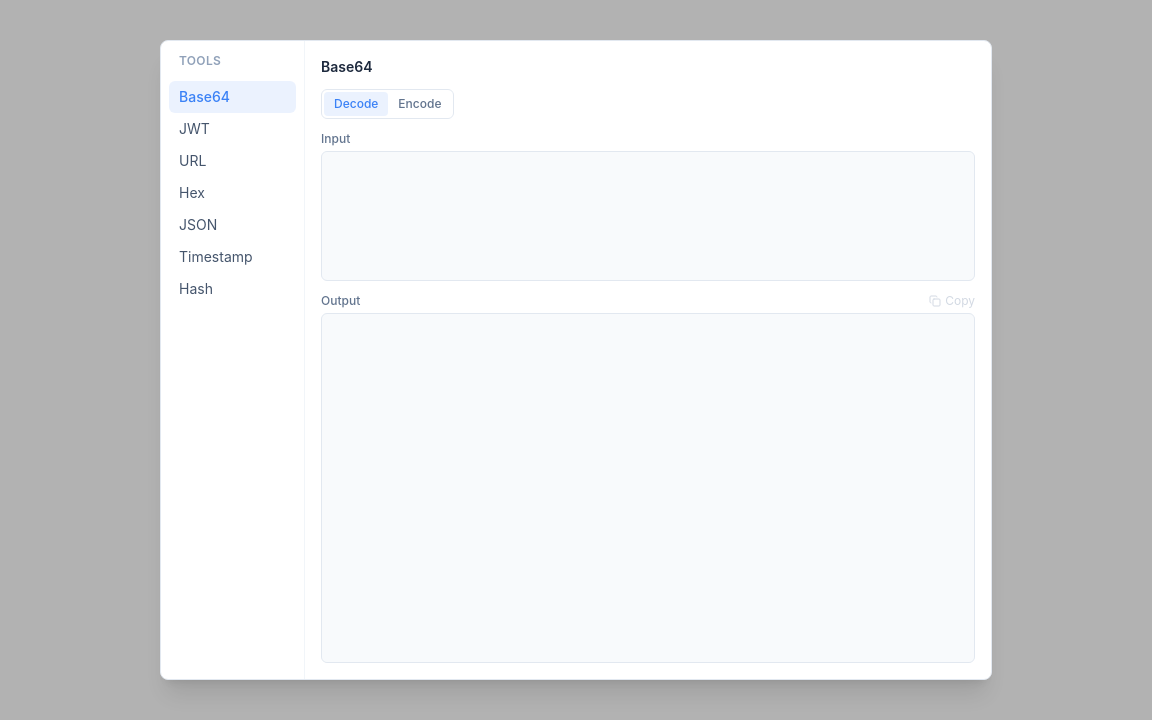
Test: ToolsDialog › decodes base64 input
The image size is (1152, 720).
Type "aGVsbG8=" into the text box labelled "Input" at (648, 216), box [321,151,975,281]
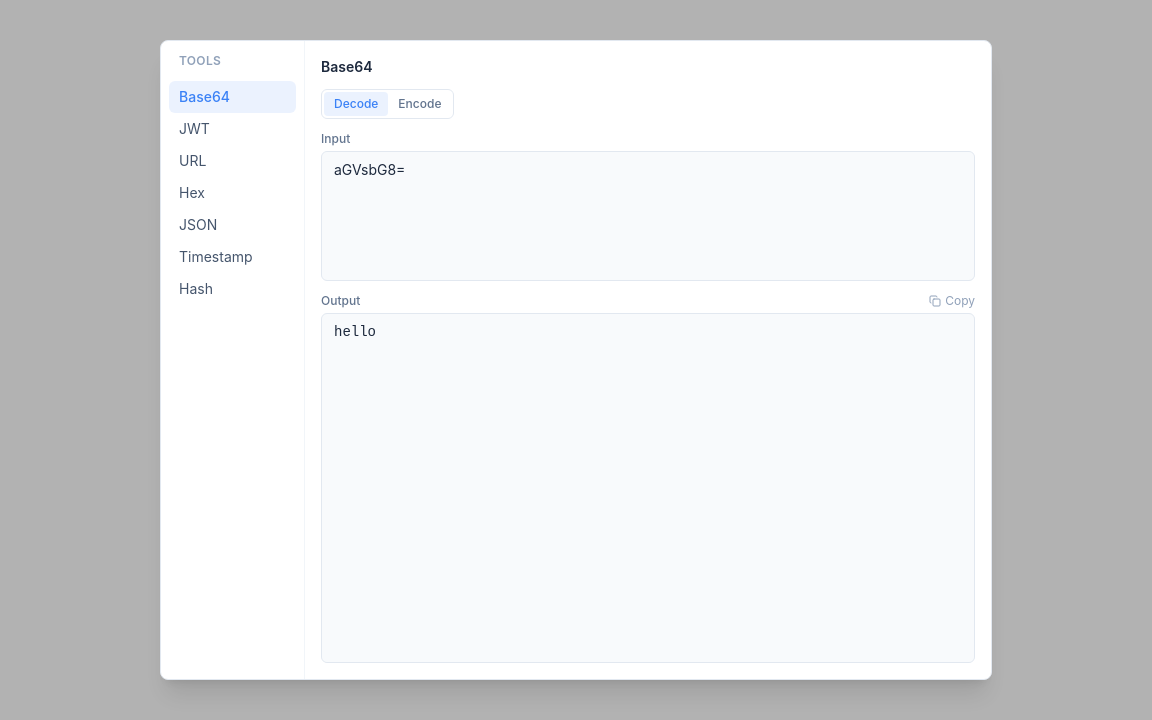
Result: the text "hello" is shown at [321,313,975,663]
